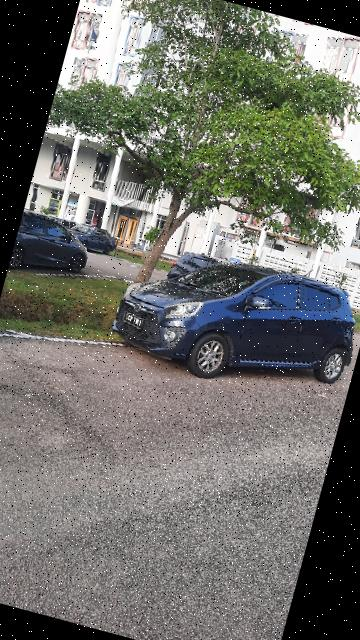License_Plate: (115, 308, 153, 334)
car: (106, 228, 360, 415), (10, 200, 105, 287)
